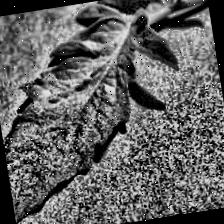leaf mold: (0, 27, 162, 224)
